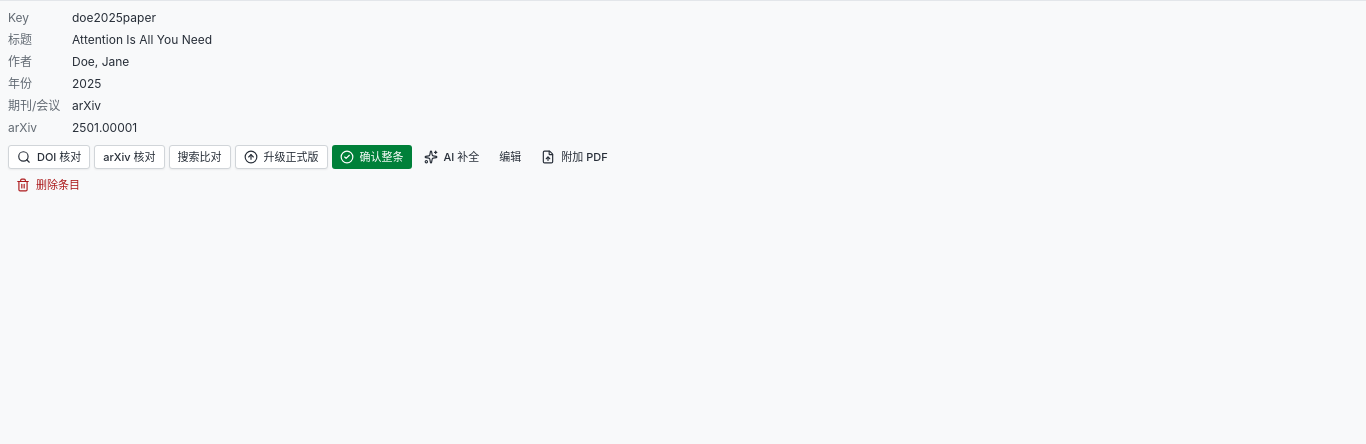
Scenario: EntryDetail arXiv 预印本升级正式版 › 预印本条目显示「升级正式版」按钮并优先展示正式出版候选
This screenshot has width=1366, height=444.
Click the button with test id "library-upgrade-preprint-doe2025paper" at (281, 157), box 234,145 -> 328,169
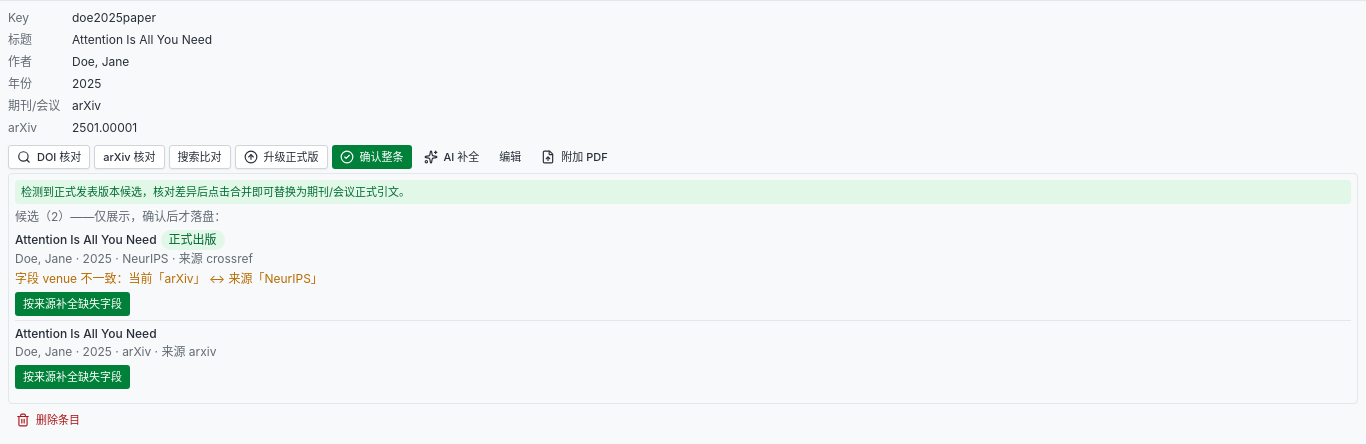
expect the element with test id "library-lookup-result-doe2025paper" shows "检测到正式发表版本候选": met, box 21,185 -> 410,199
expect the element with test id "library-lookup-result-doe2025paper" shows "正式出版": met, box 168,232 -> 216,247
